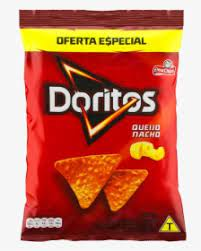Doritos: (18, 7, 190, 245)
